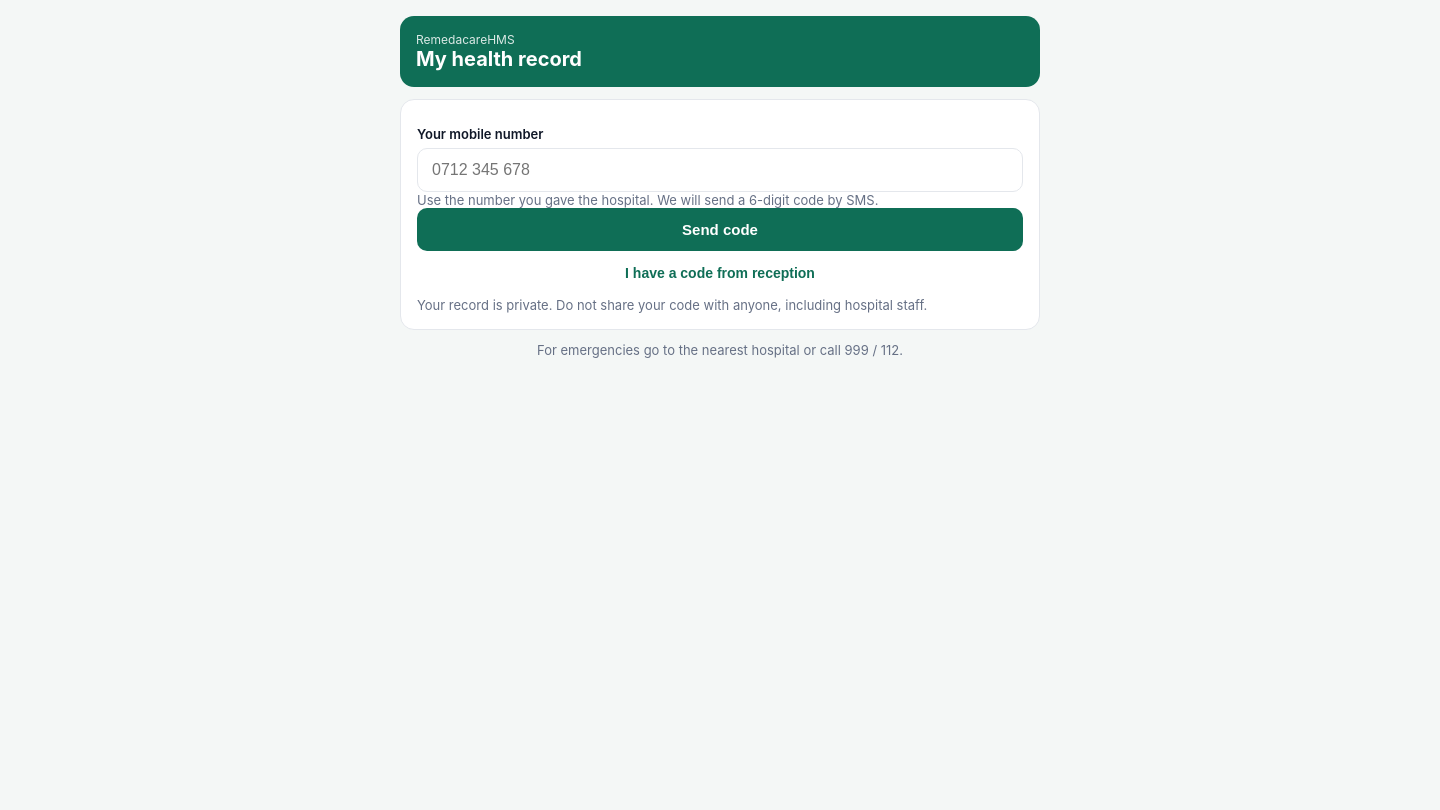
Test: patient portal page › signs in with phone + code and shows the record (sensitive results withheld, bills say pay at cashier)
Step 1. Type "0712345678" into the field labelled "Your mobile number" → {"x": 720, "y": 170}, box [417, 148, 1023, 192]
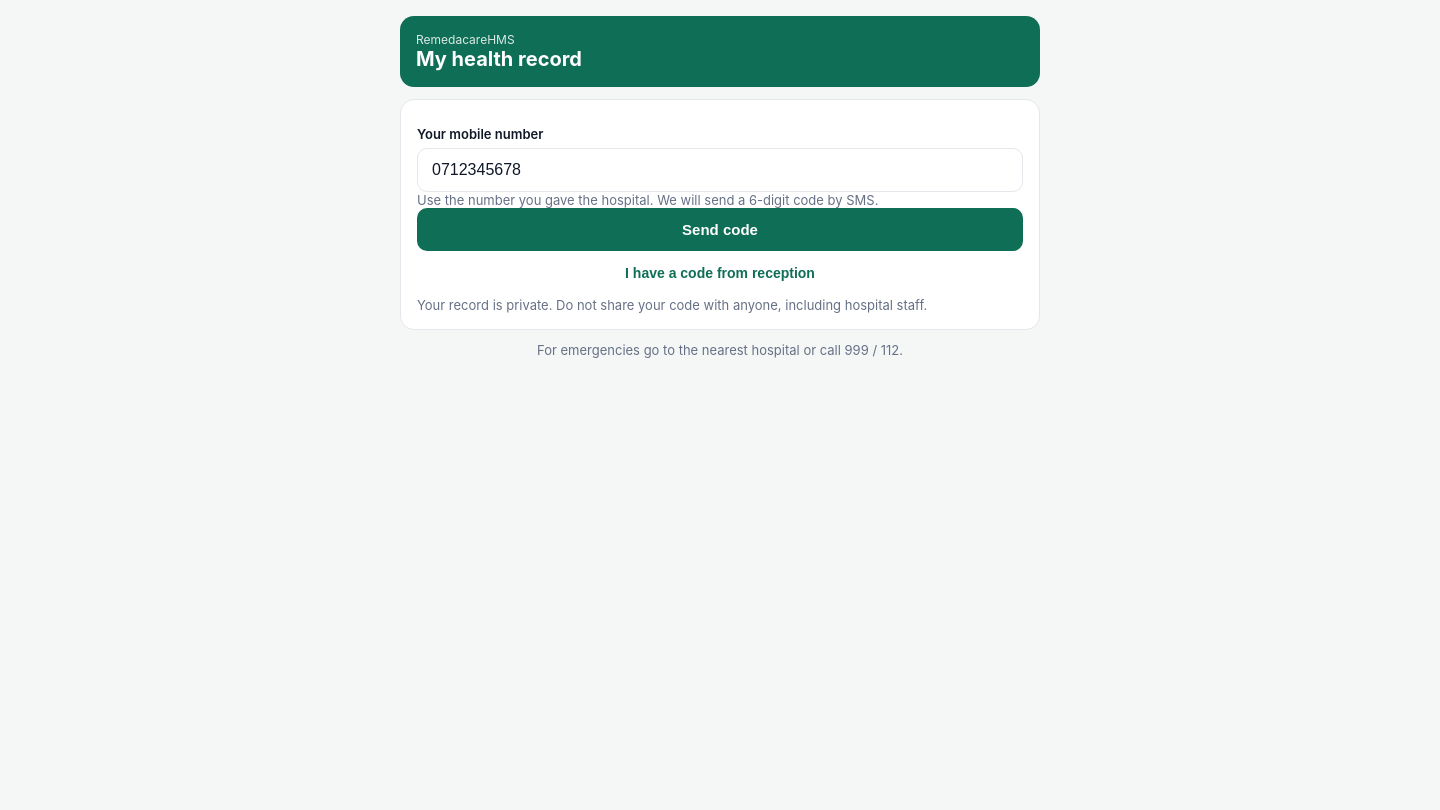
Step 2. Click the button "Send code" → {"x": 720, "y": 230}, box [417, 208, 1023, 251]
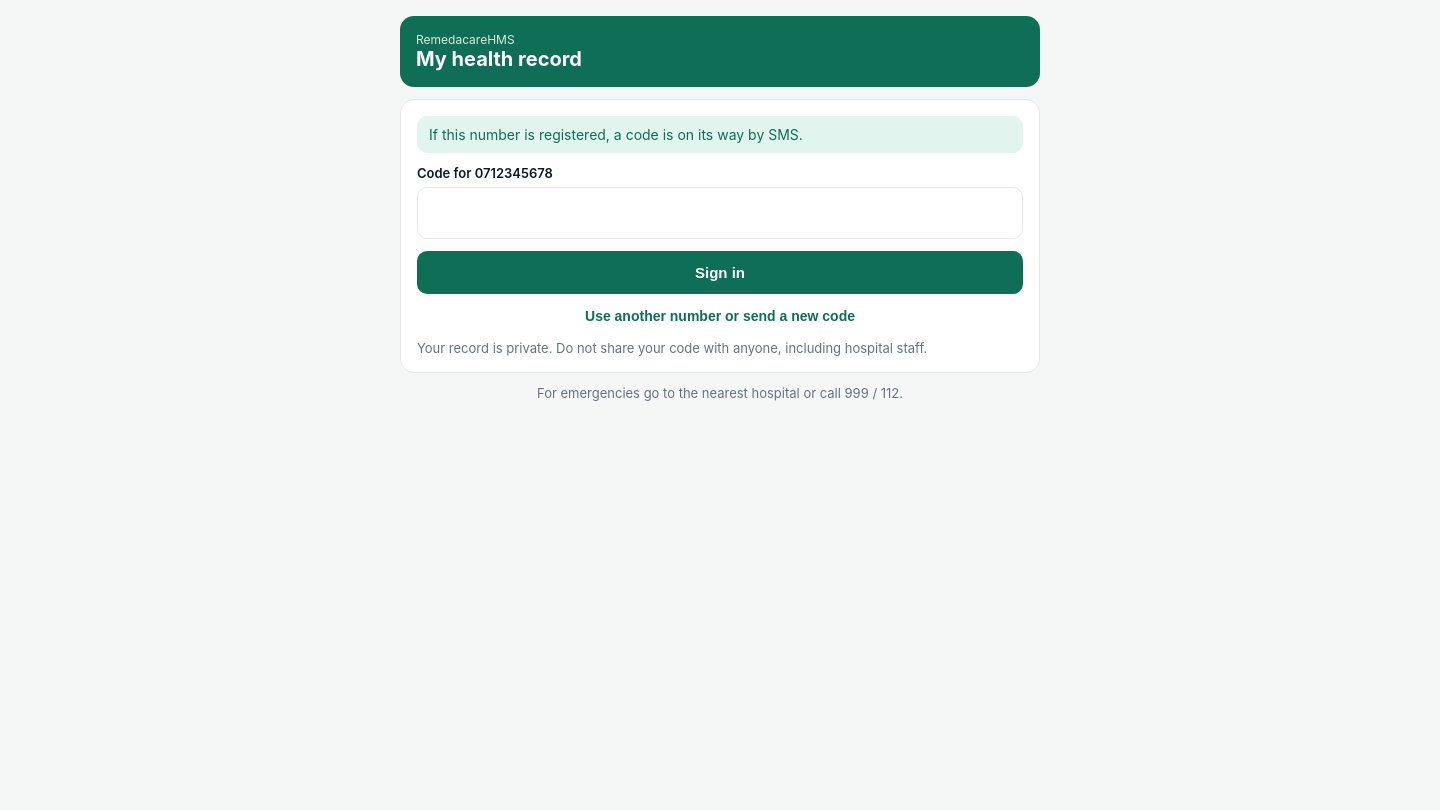
Now the text "If this number is registered, a code is on its way by SMS." is shown, box [417, 116, 1023, 153]
Step 3. Type "000000" into the field labelled "Code for 0712345678" → {"x": 720, "y": 213}, box [417, 187, 1023, 239]
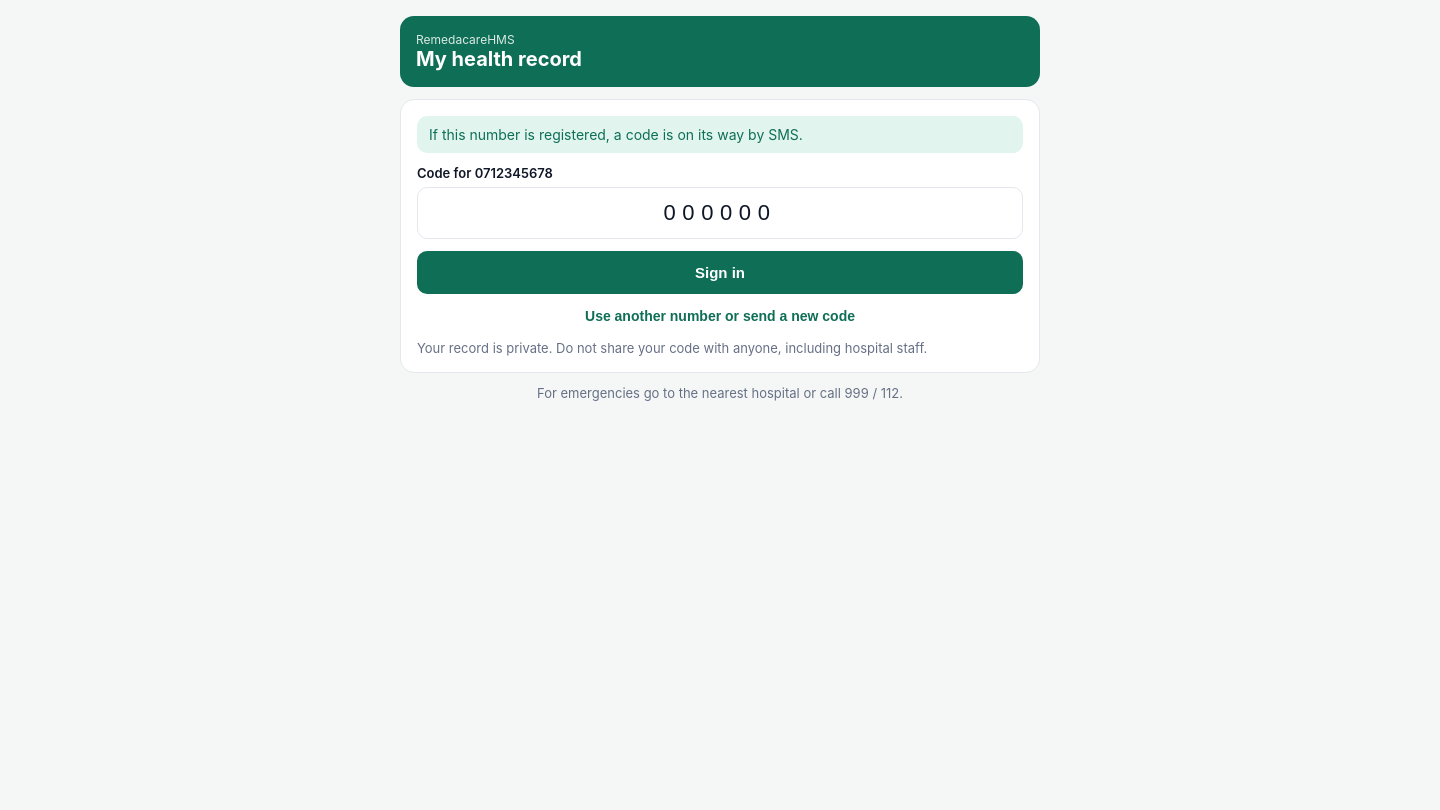
Step 4. Click the button "Sign in" → {"x": 720, "y": 272}, box [417, 251, 1023, 294]
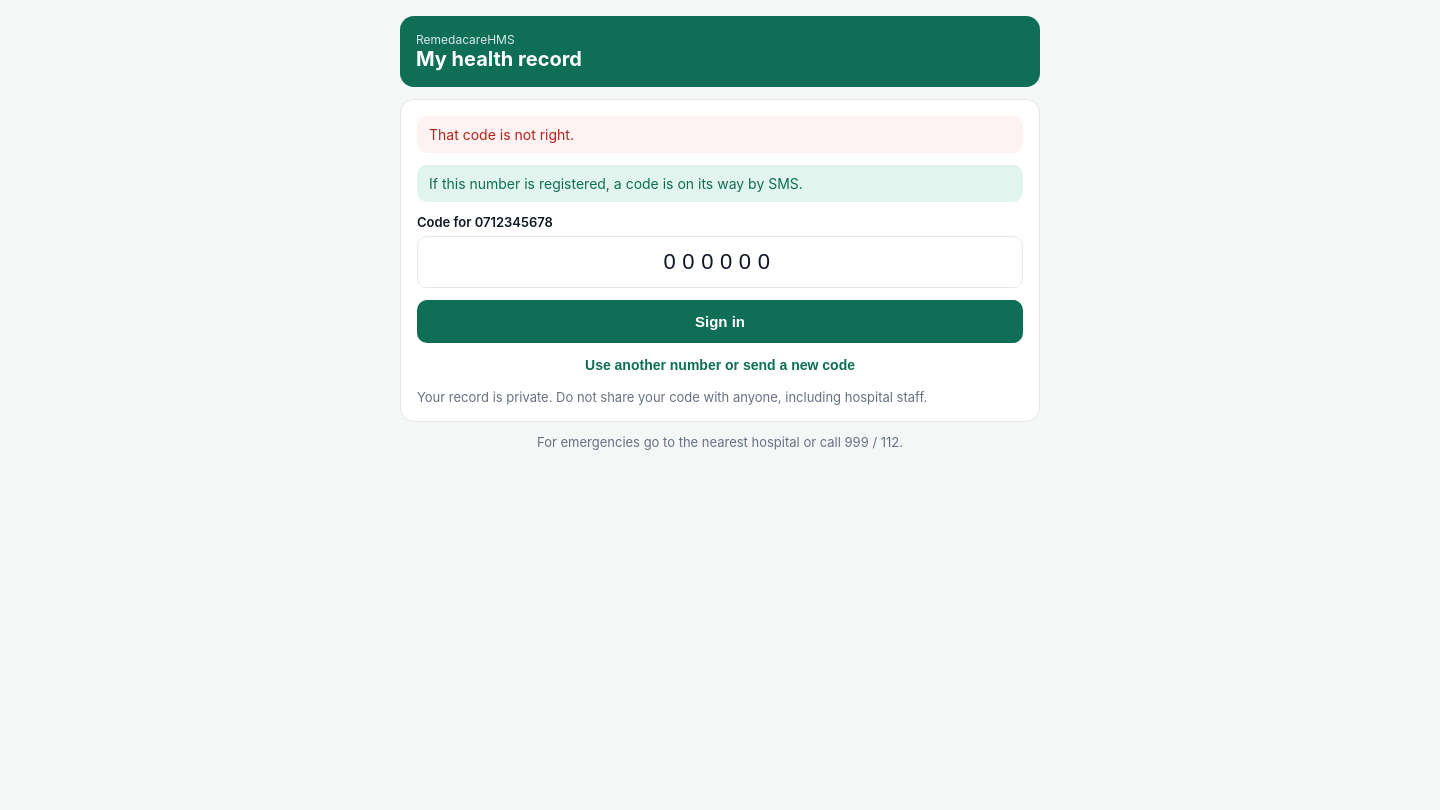
Now the text "That code is not right." is shown, box [417, 116, 1023, 153]
Step 5. Replace the text in the field labelled "Code for 0712345678" with "123456" → {"x": 720, "y": 262}, box [417, 236, 1023, 288]
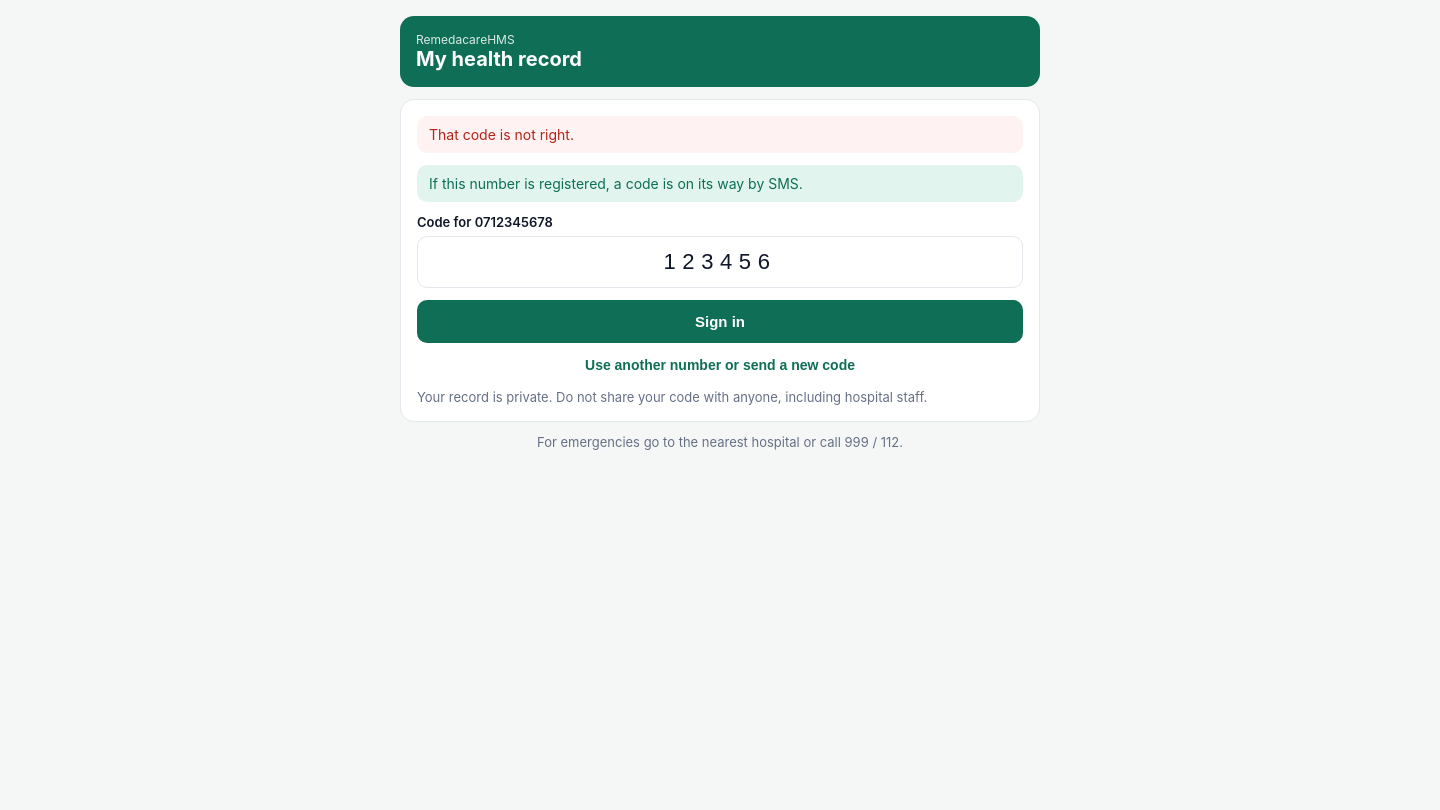
Step 6. Click the button "Sign in" → {"x": 720, "y": 322}, box [417, 300, 1023, 343]
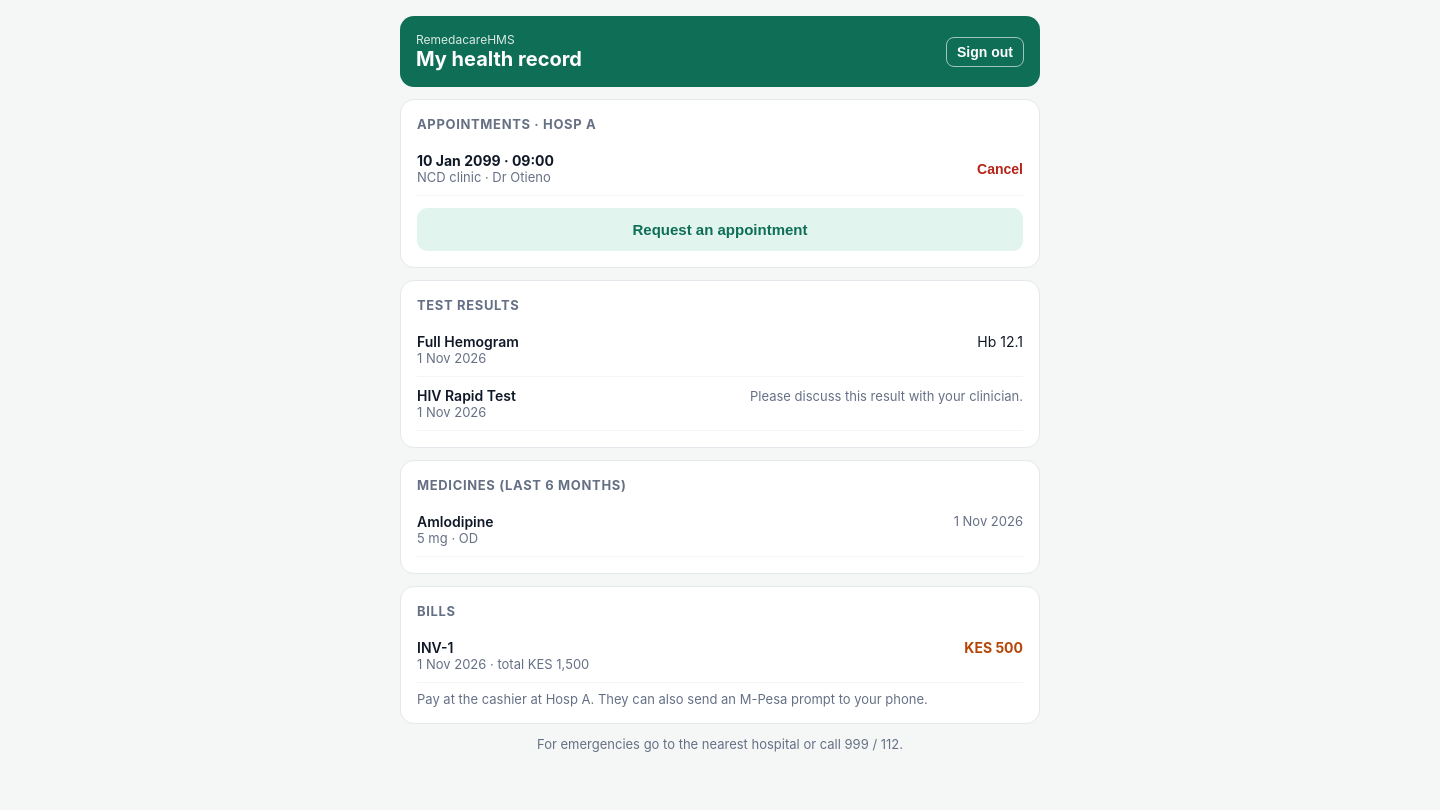
Now the text "Hb 12.1" is shown, box [977, 333, 1023, 350]
Now the text "Please discuss this result with your clinician." is shown, box [750, 388, 1023, 404]
Now the text "Pay at the cashier at Hosp A" is shown, box [417, 691, 928, 707]
